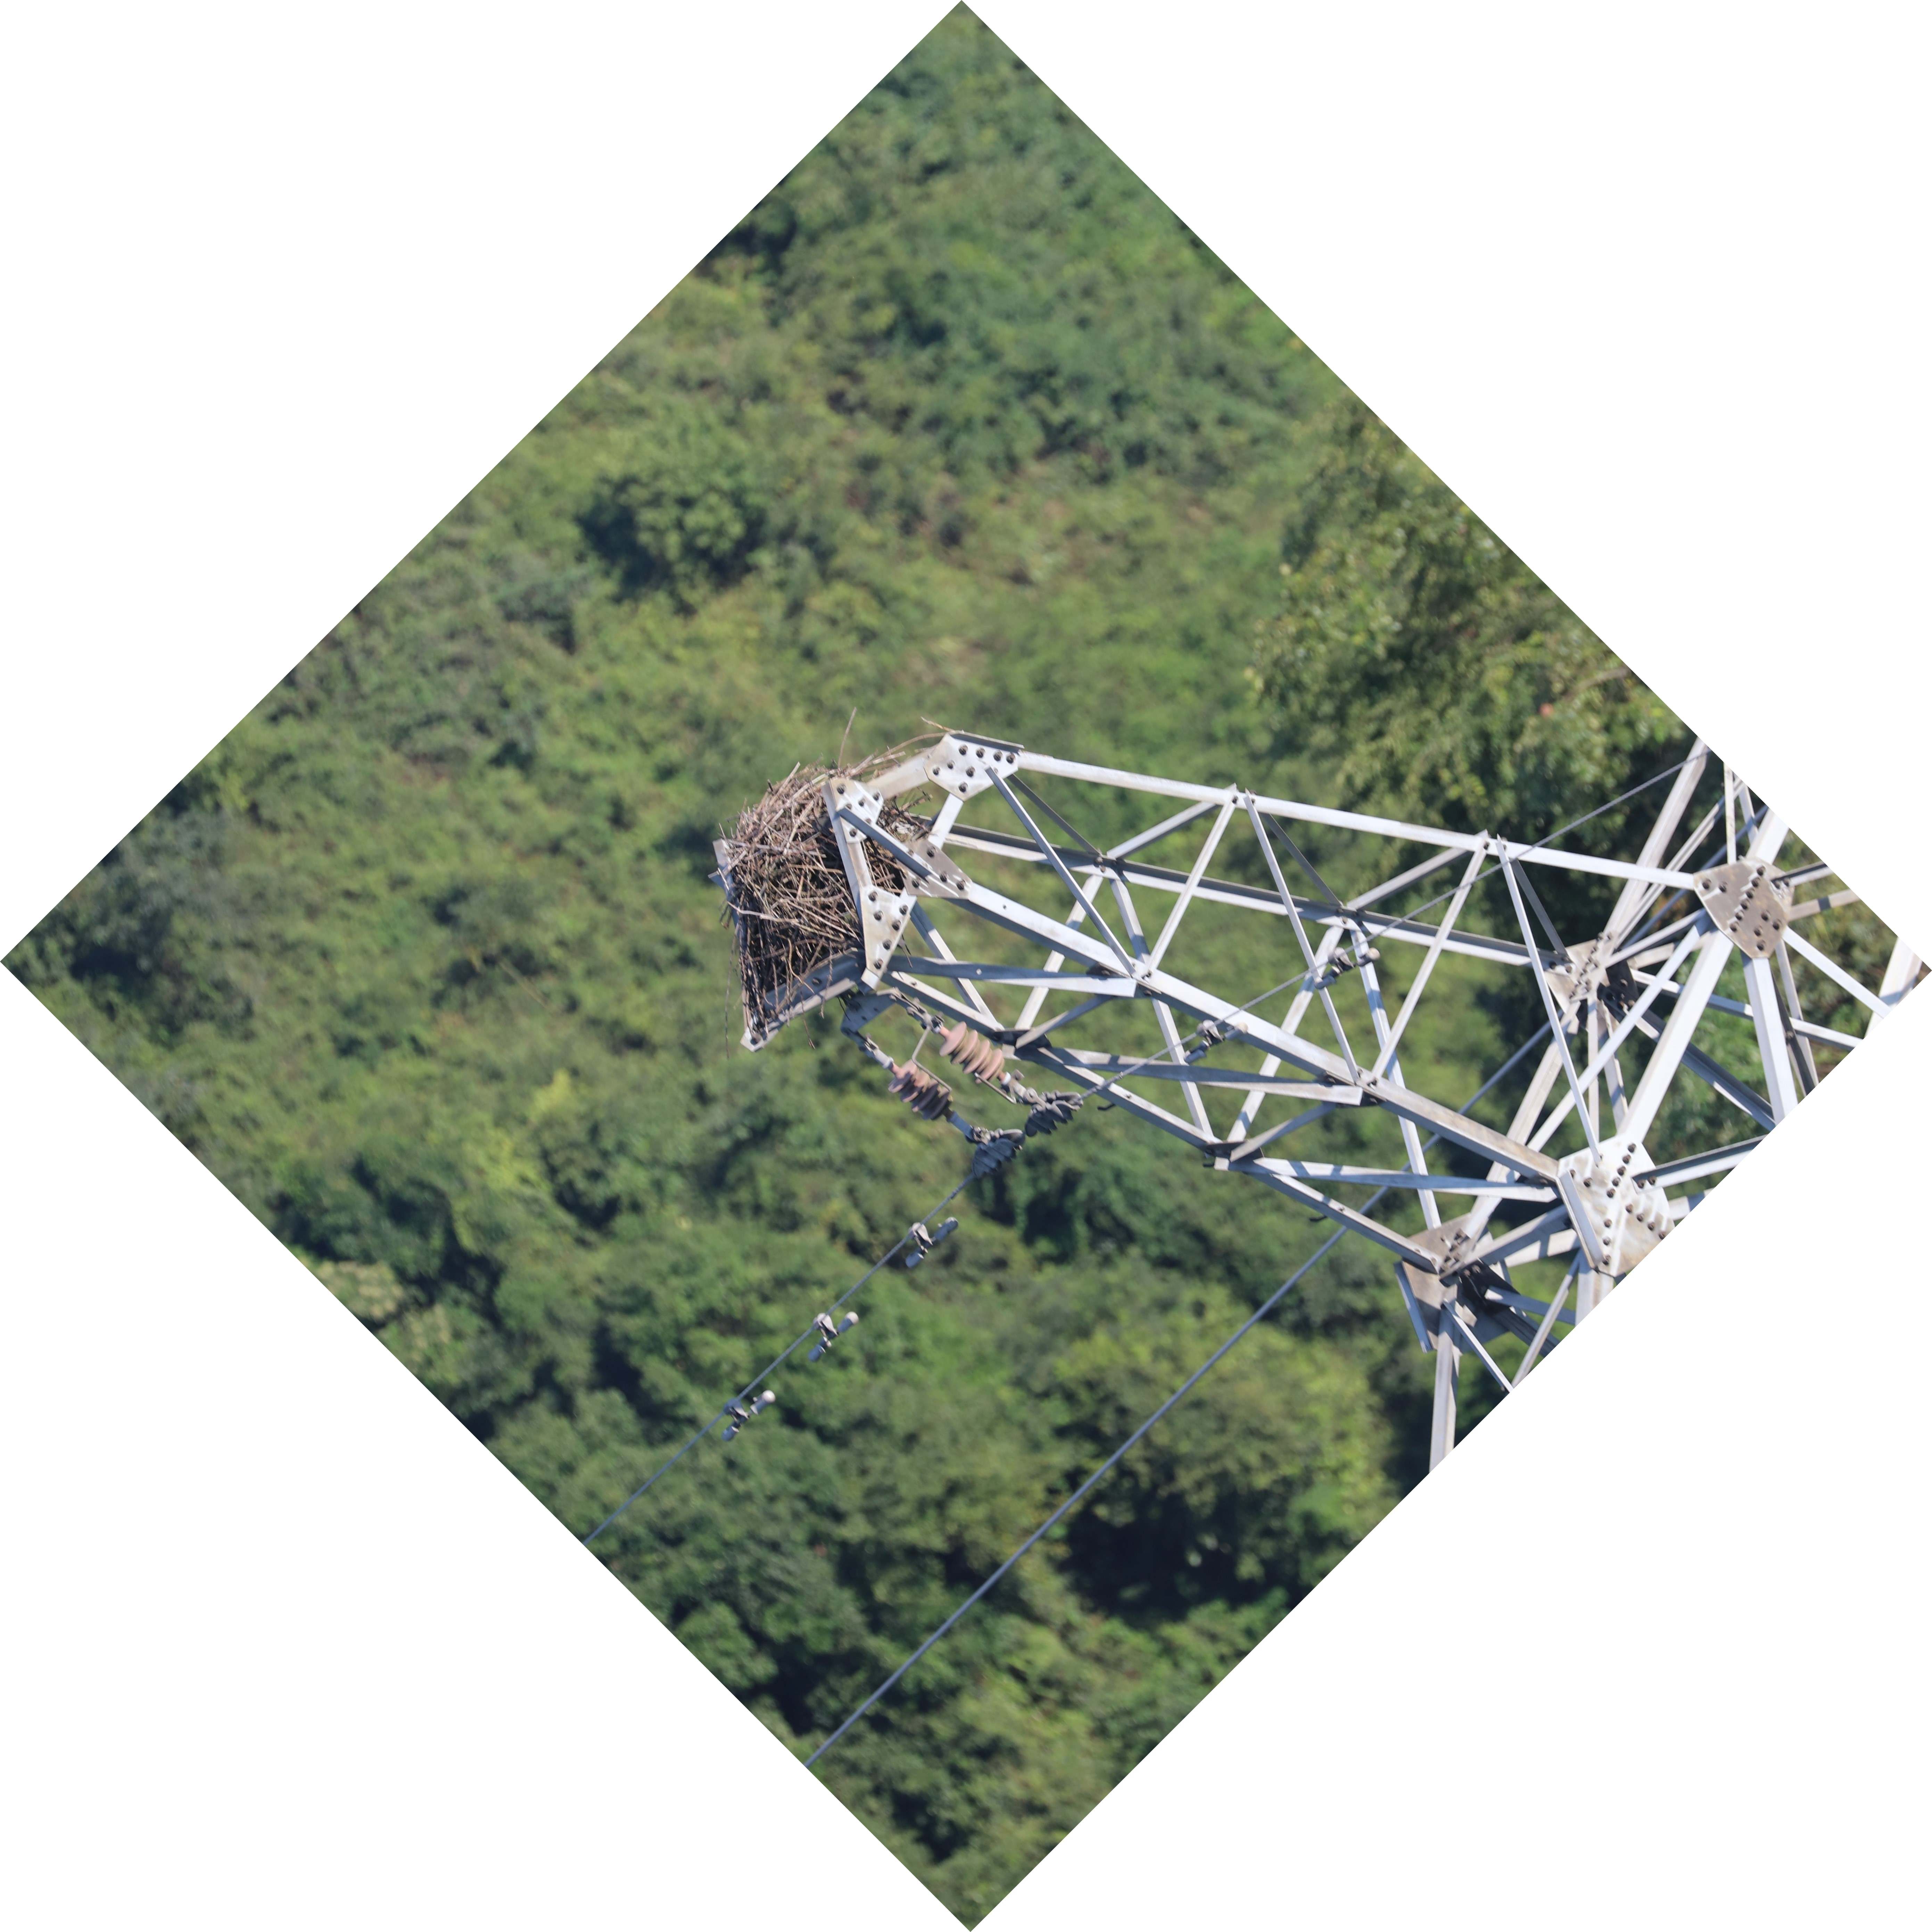niaowo: (672, 755, 952, 1016)
